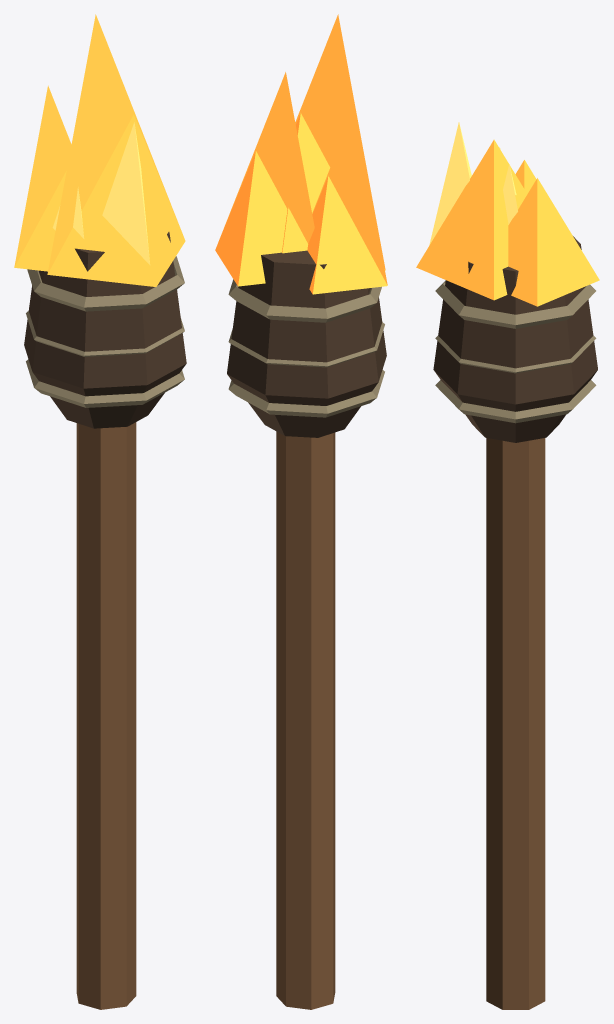
The model's file is torch.glb.
3 renders of one model, left to right at view 1: azimuth 30°, elevation 25°; view 2: azimuth 150°, elevation 25°; view 3: azimuth 270°, elevation 25°, orthographic. The views are drawn at different scales.
Parts seen in each view (by area): view 1: geometry, flame; view 2: geometry, flame; view 3: geometry, flame.
Part boxes in pixels (x1,y1,x2,y2): geometry: (24,232,186,1009); flame: (14,14,185,286); geometry: (227,250,386,1009); flame: (215,14,387,294); geometry: (433,236,597,1009); flame: (416,122,599,306).
Size of the model in its own units: 0.22 by 1.24 by 0.212.
